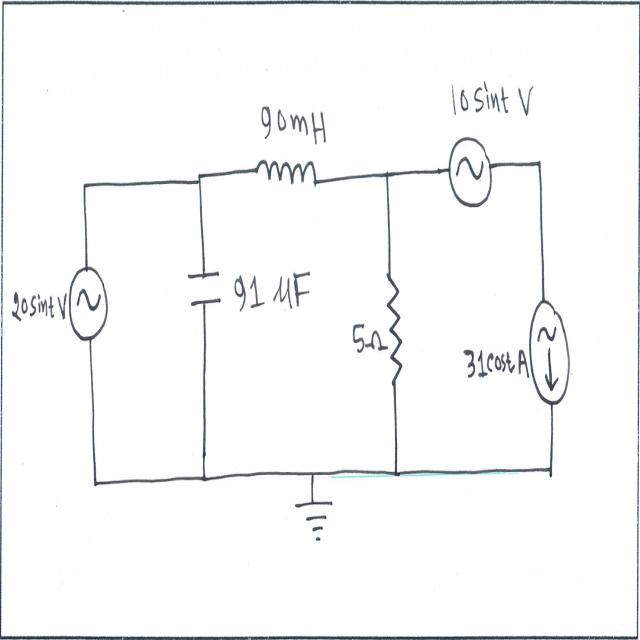ac_current: (445, 134, 497, 216), (66, 262, 112, 350)
capacitor: (185, 266, 226, 313)
current_source: (527, 295, 578, 417)
ground: (292, 497, 340, 550)
inductor: (250, 153, 322, 202)
resistor: (384, 251, 410, 394)
